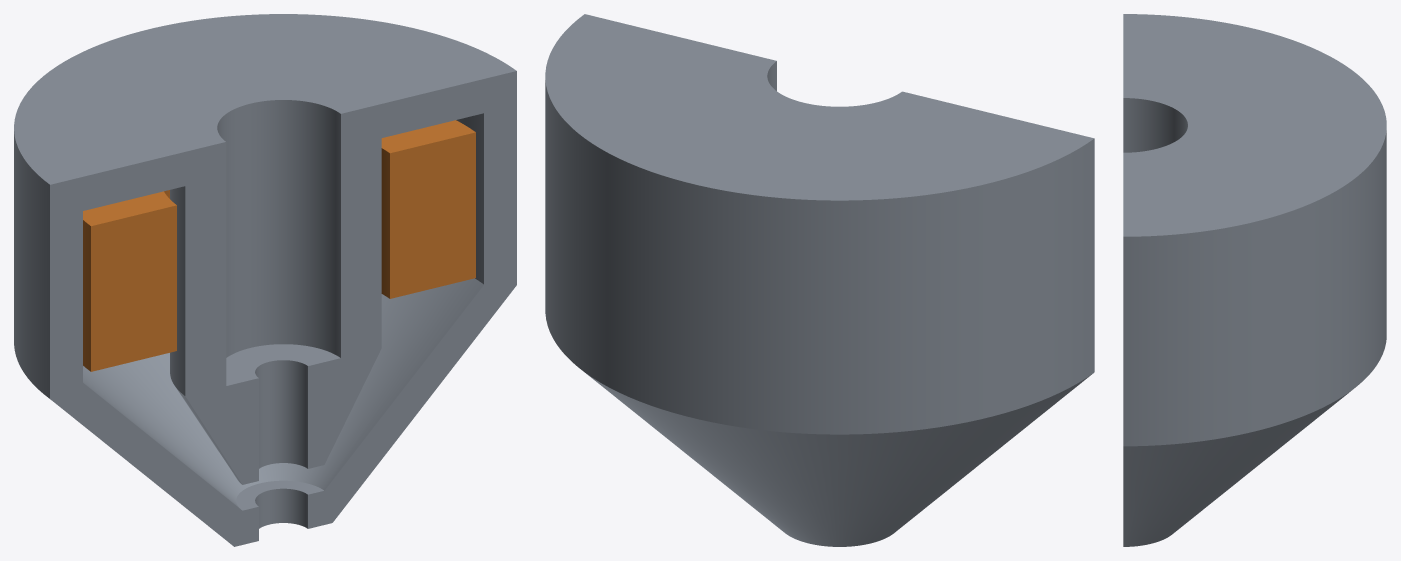
The model's file is objective-section.glb.
3 views of the same model, side by side, from view 1: azimuth 30°, elevation 25°; view 2: azimuth 150°, elevation 25°; view 3: azimuth 270°, elevation 25° (orthographic). The views are drawn at different scales.
Parts seen in each view (by area): view 1: objective-upper-pole, objective-lower-pole, objective-coil, objective-shell-ring; view 2: objective-shell-ring, objective-upper-pole, objective-lower-pole; view 3: objective-upper-pole, objective-shell-ring, objective-lower-pole.
Part boxes in pixels (x1,y1,x2,y2): objective-upper-pole: (14,14,516,484); objective-lower-pole: (14,259,516,546); objective-coil: (83,120,475,371); objective-shell-ring: (14,105,516,373); objective-shell-ring: (545,117,1094,406); objective-upper-pole: (545,14,1094,237); objective-lower-pole: (545,286,1094,546); objective-upper-pole: (1123,14,1386,270); objective-shell-ring: (1123,164,1386,421); objective-lower-pole: (1123,315,1386,546).
Size of the model in its own units: 114 by 95 by 56.98.
